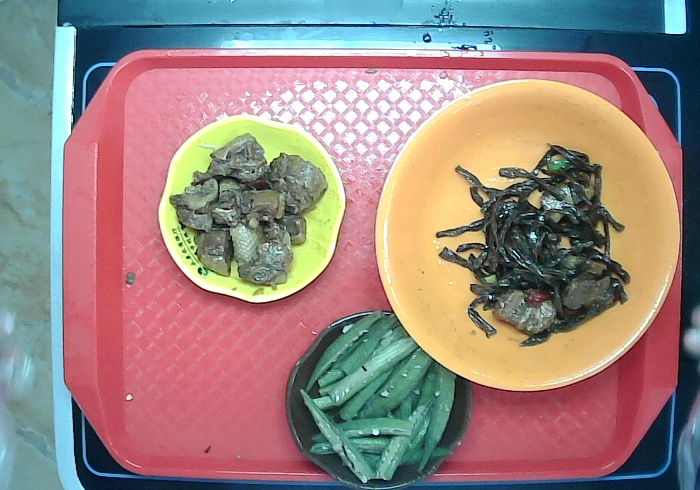YKMZ-Huang_Se_Ao_Bian_Wan: (155, 114, 346, 304)
YKMZ-Ju_Se_Tang_Wan: (373, 77, 684, 392)
YKMZ-Ka_Fei_Ao_Bian_Wan: (288, 312, 470, 490)
